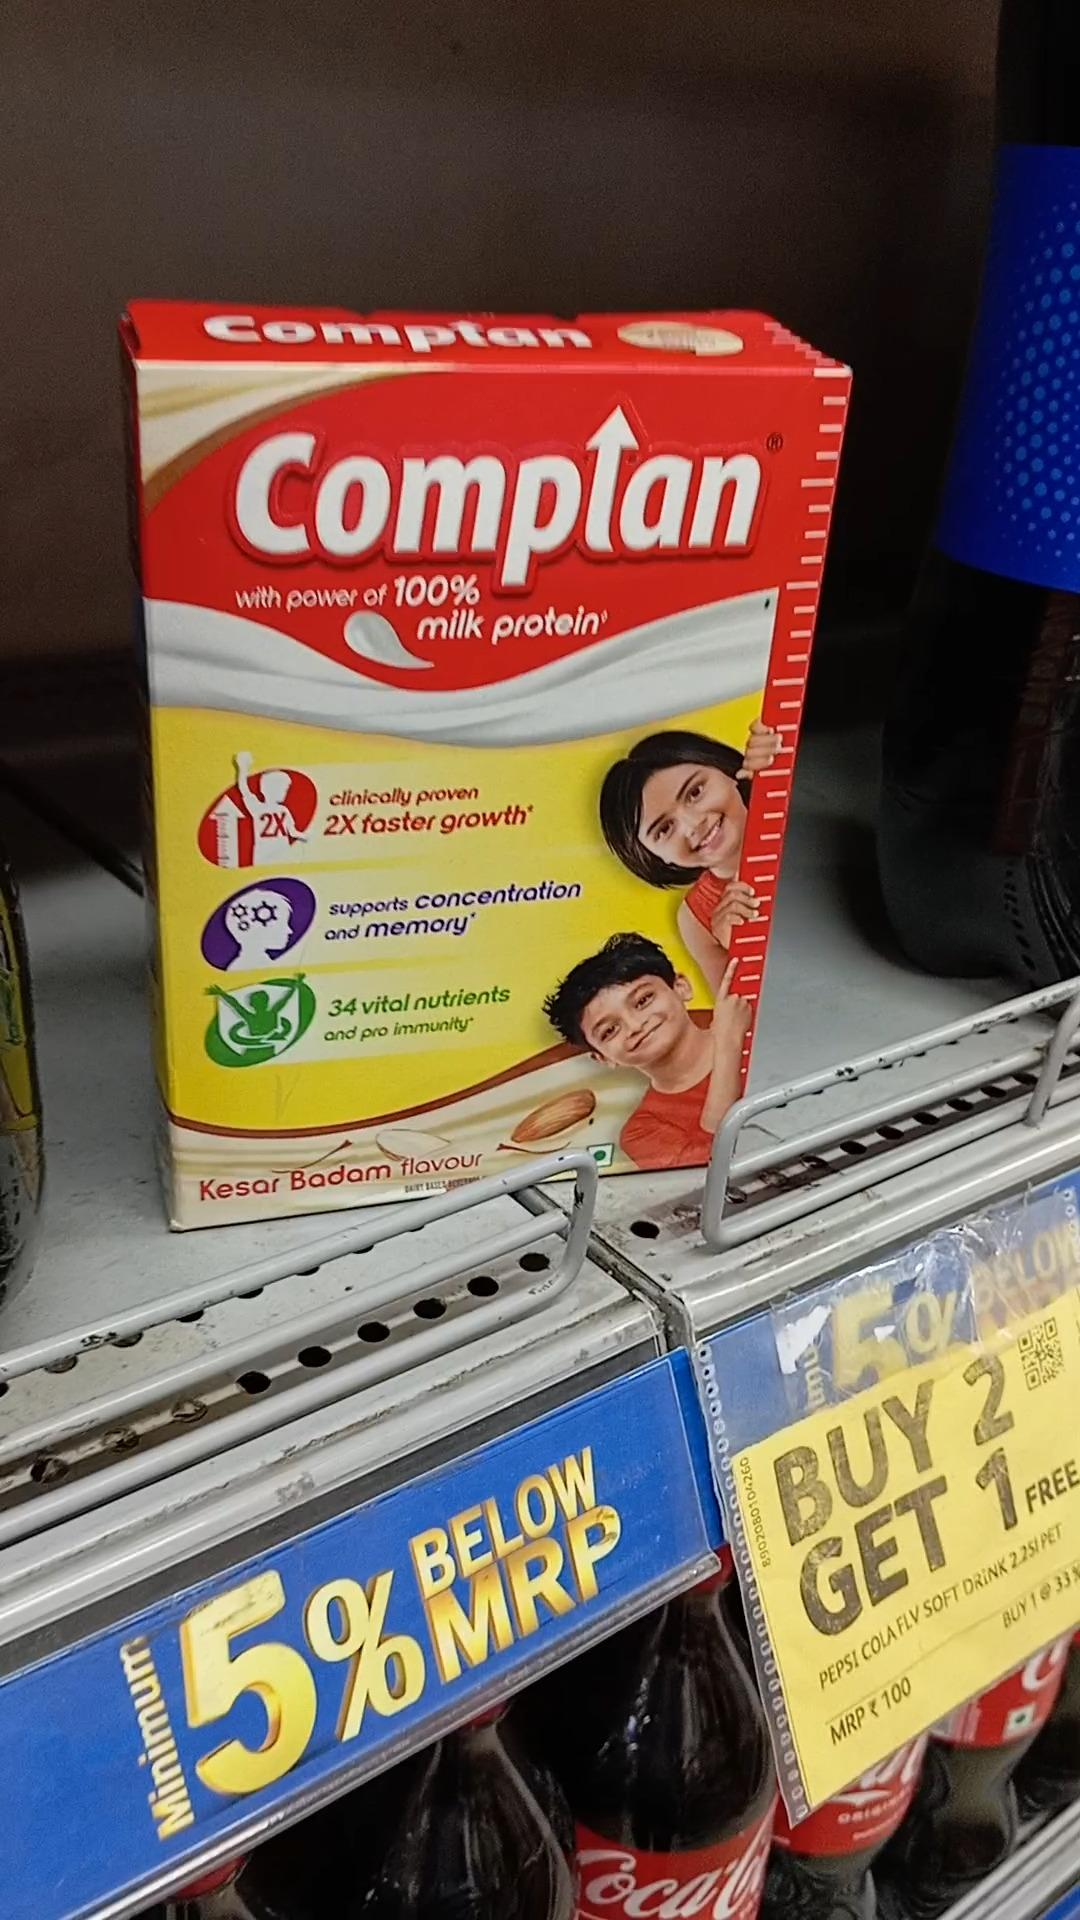COMPLAN_CHOCOLATE_200_GMS_JAR: (154, 365, 738, 1196)
